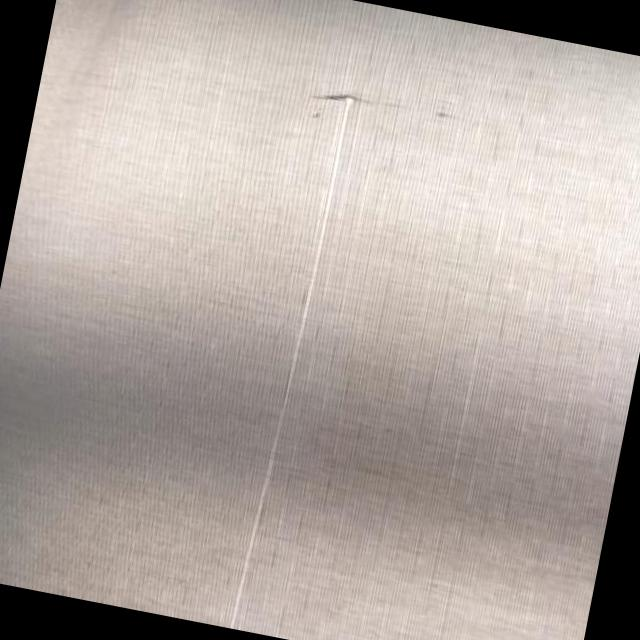Stain: (308, 86, 472, 130)
Warp_Weft: (226, 87, 362, 629)
